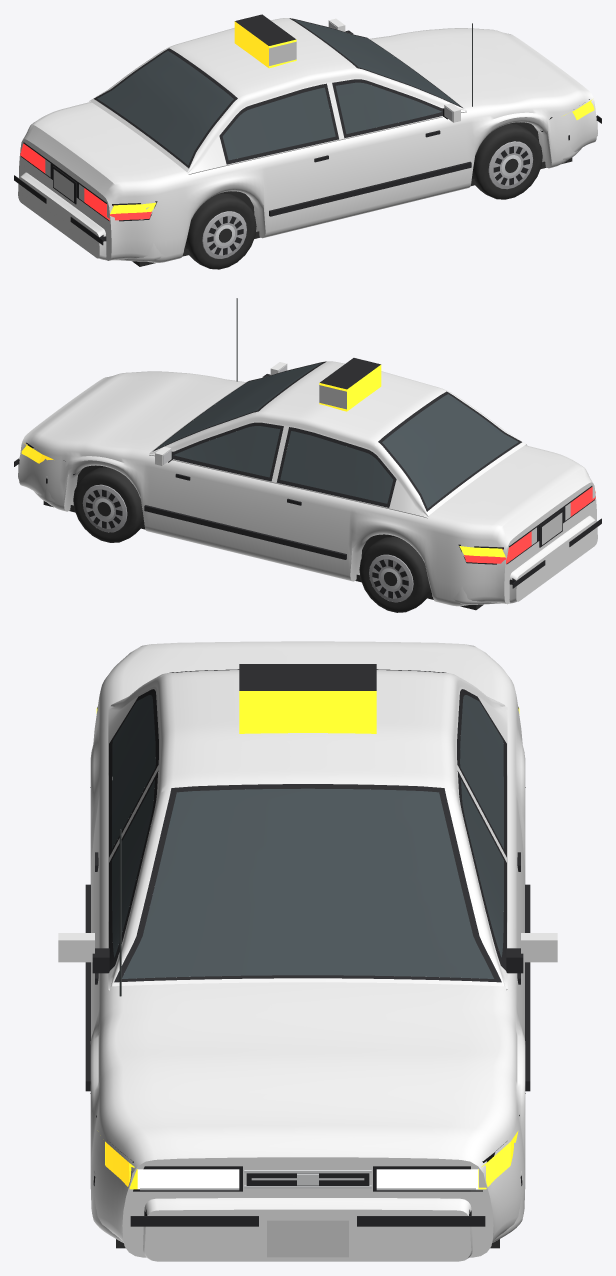
File: car_taxi.glb
3 views of the same model, one above another, from view 1: azimuth 30°, elevation 25°; view 2: azimuth 150°, elevation 25°; view 3: azimuth 270°, elevation 25° (orthographic). The views are drawn at different scales.
Visible parts, largest first — view 1: body, wheel_RR, wheel_FR; view 2: body, wheel_RL, wheel_FL; view 3: body.
Part boxes in pixels (bbox=[...]): body: bbox=[14, 14, 601, 266]; wheel_RR: bbox=[185, 193, 256, 269]; wheel_FR: bbox=[472, 124, 542, 199]; body: bbox=[14, 298, 601, 610]; wheel_RL: bbox=[359, 537, 430, 612]; wheel_FL: bbox=[73, 467, 143, 542]; body: bbox=[58, 641, 557, 1261].
Size of the model in its own units: 4.71 by 1.62 by 2.04.
